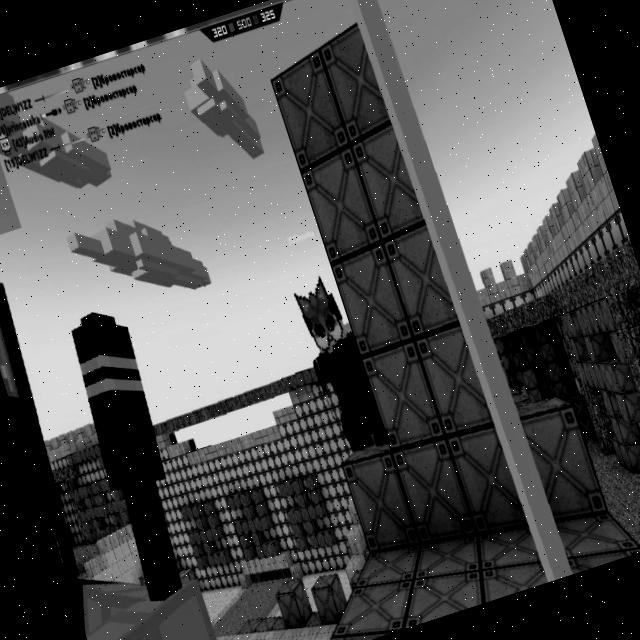Head: (0, 310, 89, 581), (291, 274, 351, 356)
Player: (0, 242, 247, 640), (286, 270, 389, 456)
